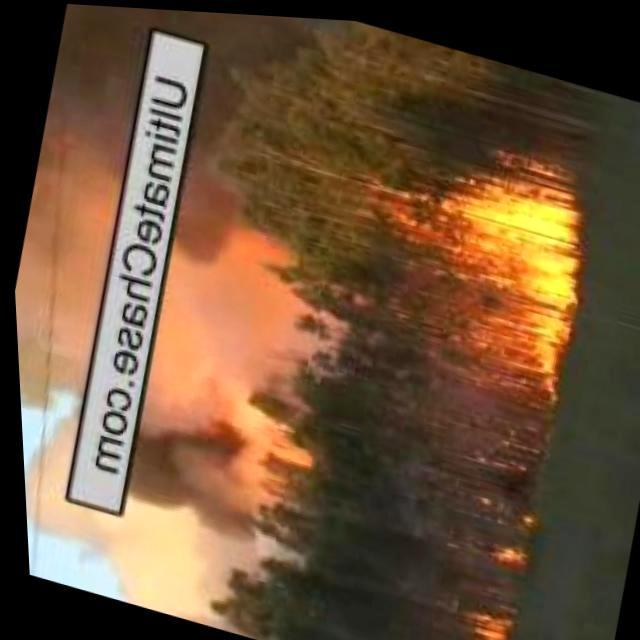fire: (418, 155, 600, 393), (471, 528, 522, 576), (449, 604, 509, 640)
